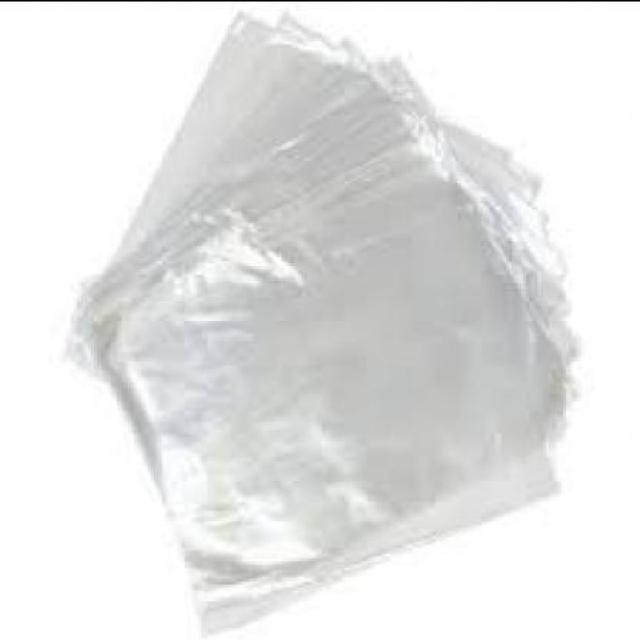PLASTIC: (80, 6, 549, 626), (108, 168, 574, 629), (79, 71, 584, 444), (71, 9, 546, 376)
